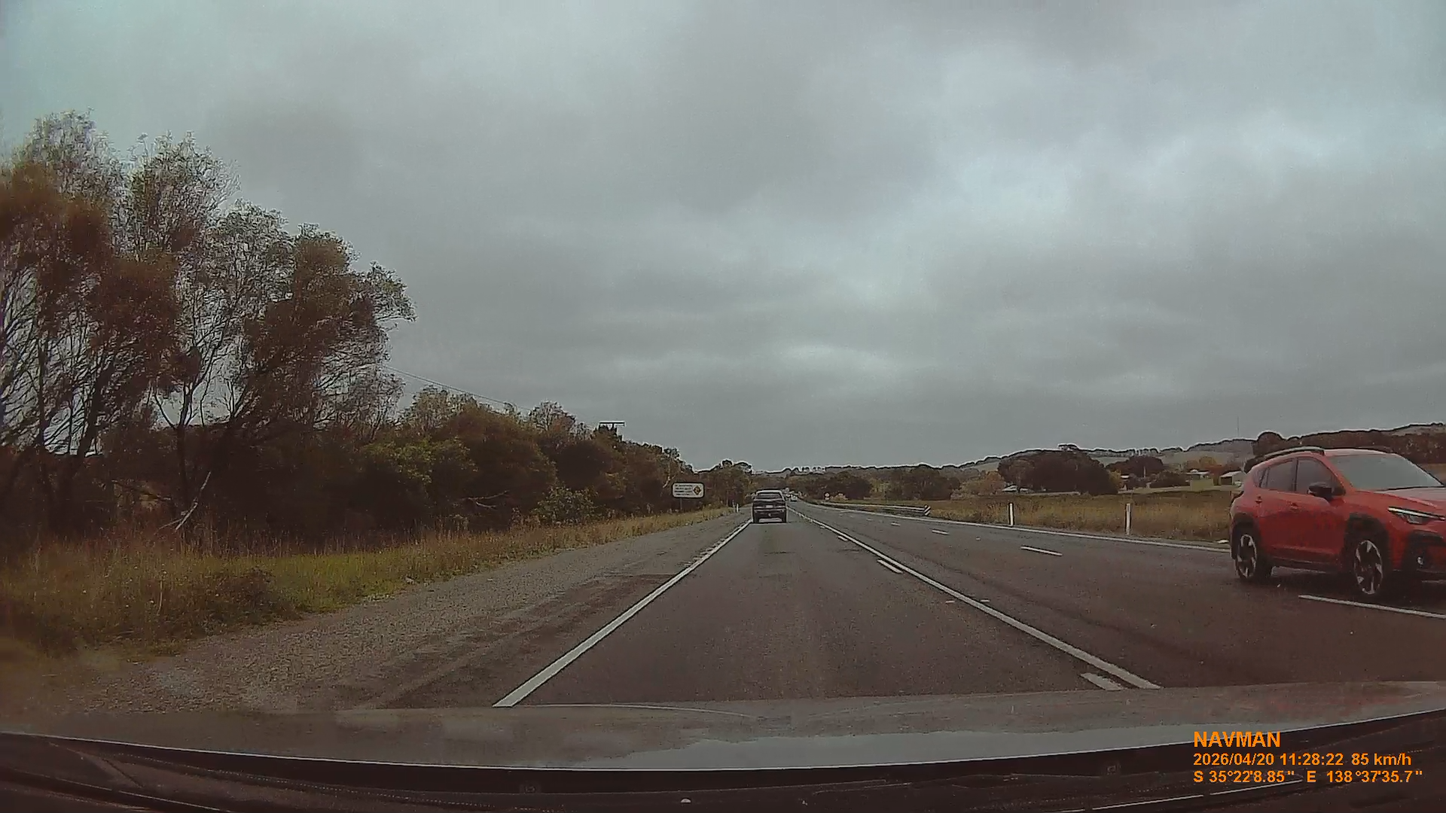road barriers: (884, 505, 931, 517)
